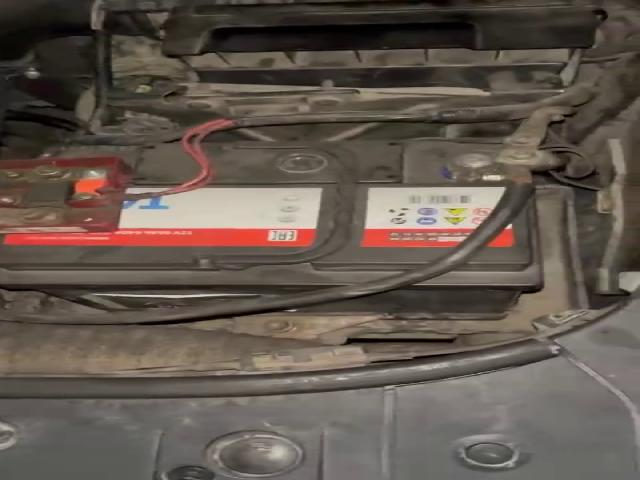accumulator: (1, 137, 543, 317)
